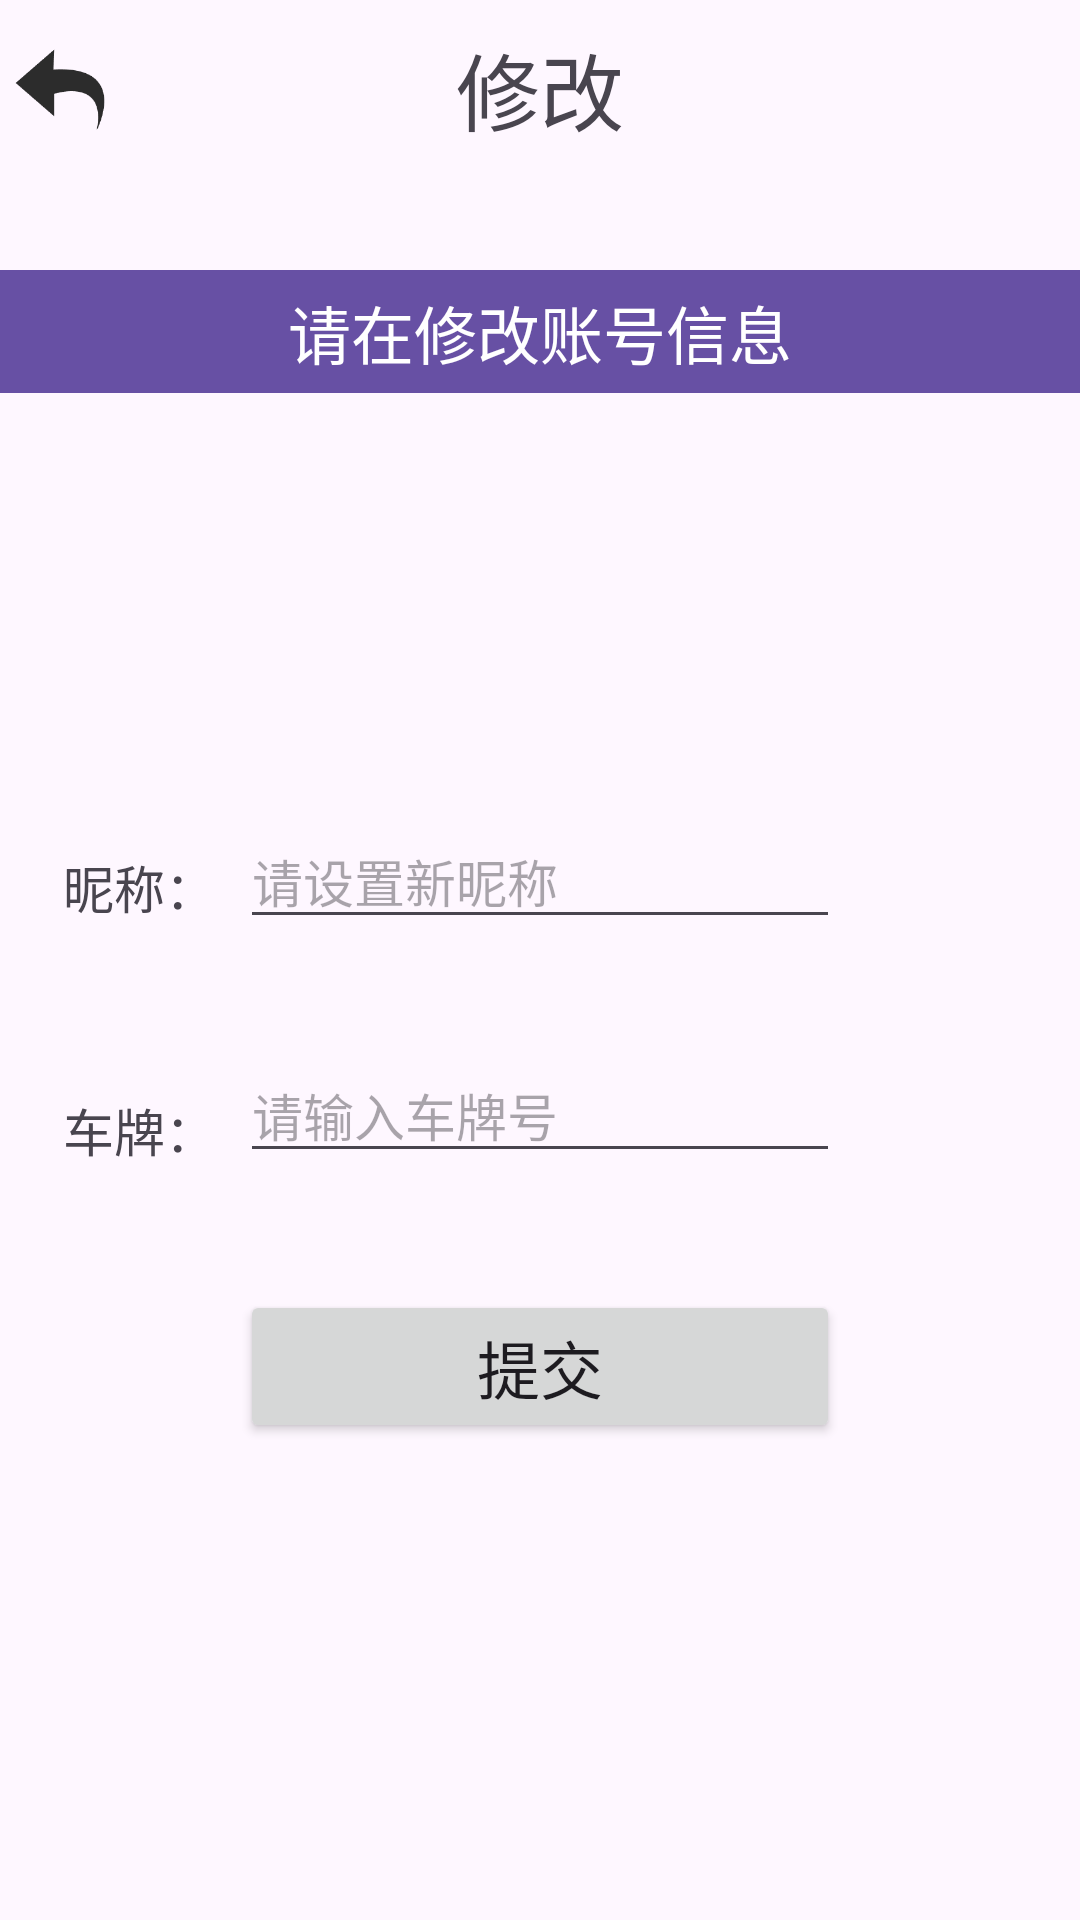

Icons on this 1080px x 1920px Android screen, each with the point to tap as point (x, y):
返回按钮: point (60, 89)
